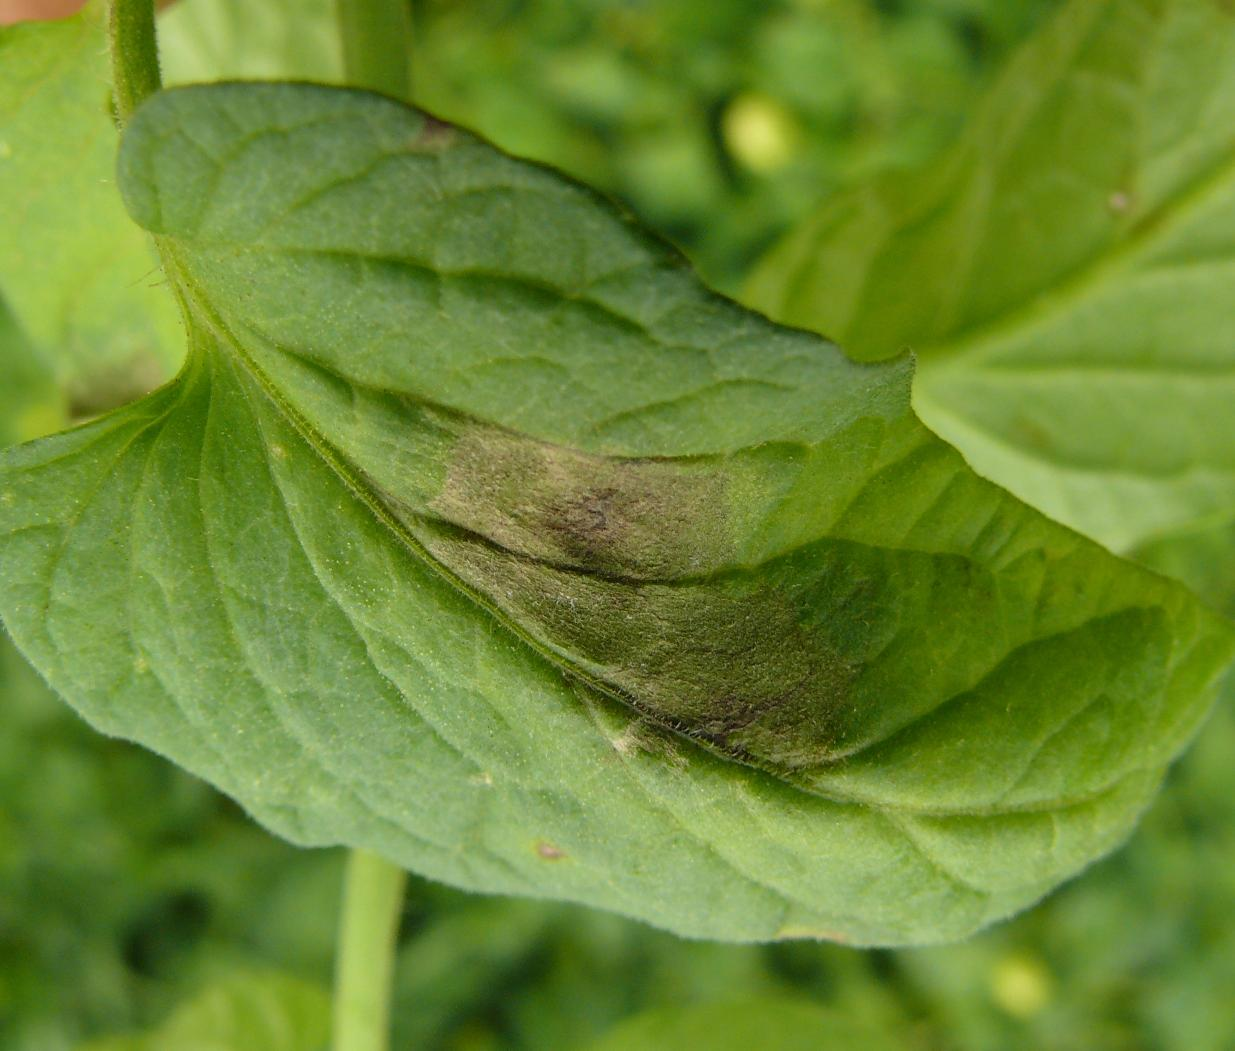Tomato leaf late blight: (6, 70, 1220, 962)
